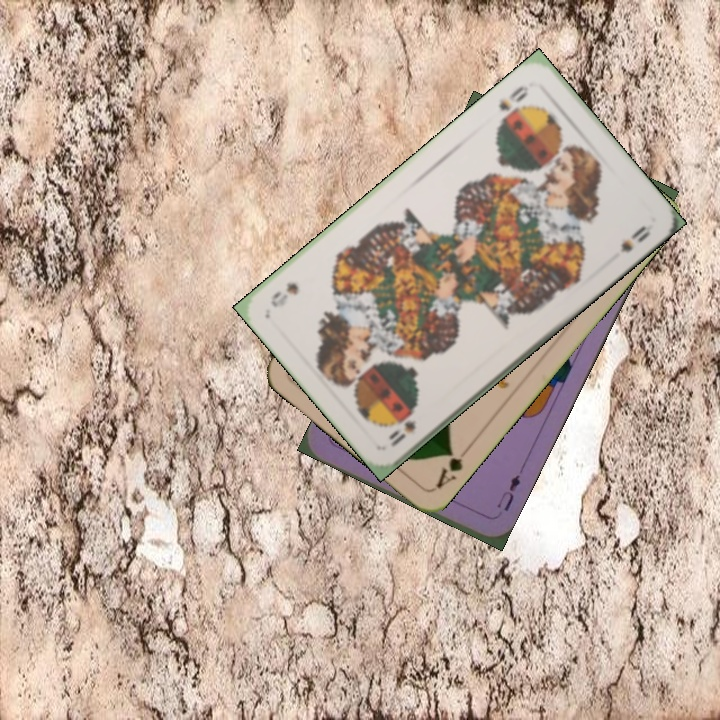EU: (492, 470, 523, 514)
GA: (432, 441, 474, 491)
SO: (494, 81, 531, 125), (384, 407, 419, 450)
